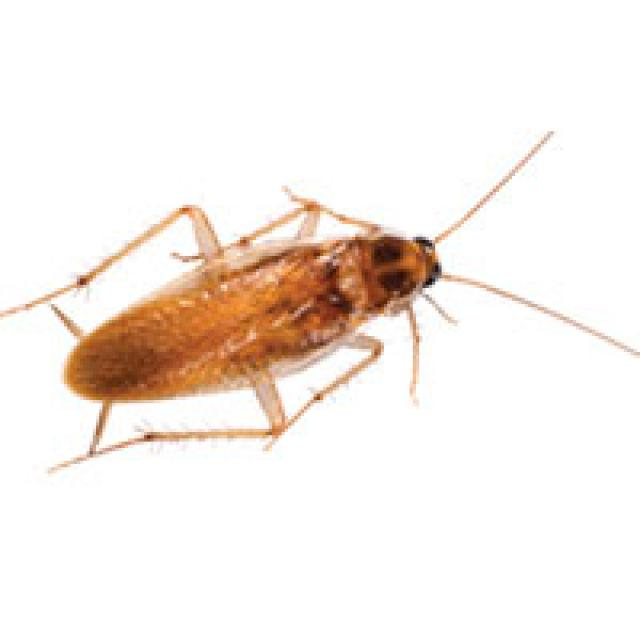Cockroach: (6, 176, 502, 461)
